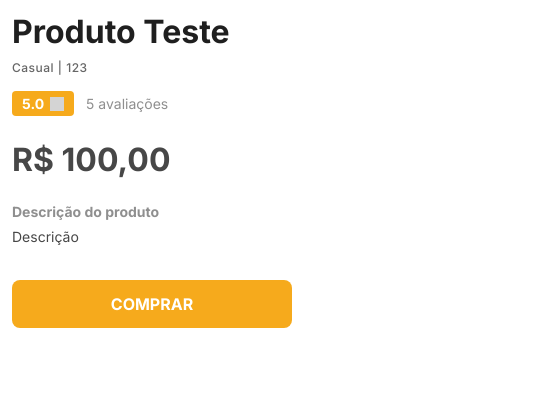
Scenario: BuyBox component › triggers onBuy callback and shows demonstrative feedback
The image size is (549, 414).
Click the button with aria-label "Comprar produto" at (152, 304), box [12, 280, 292, 328]
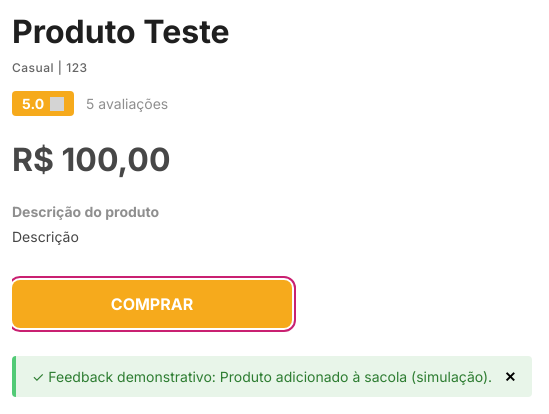
Expected: the message "✓ Feedback demonstrativo: Produto adicionado à sacola (simulação). ✕" is shown, [12, 356, 532, 397]
